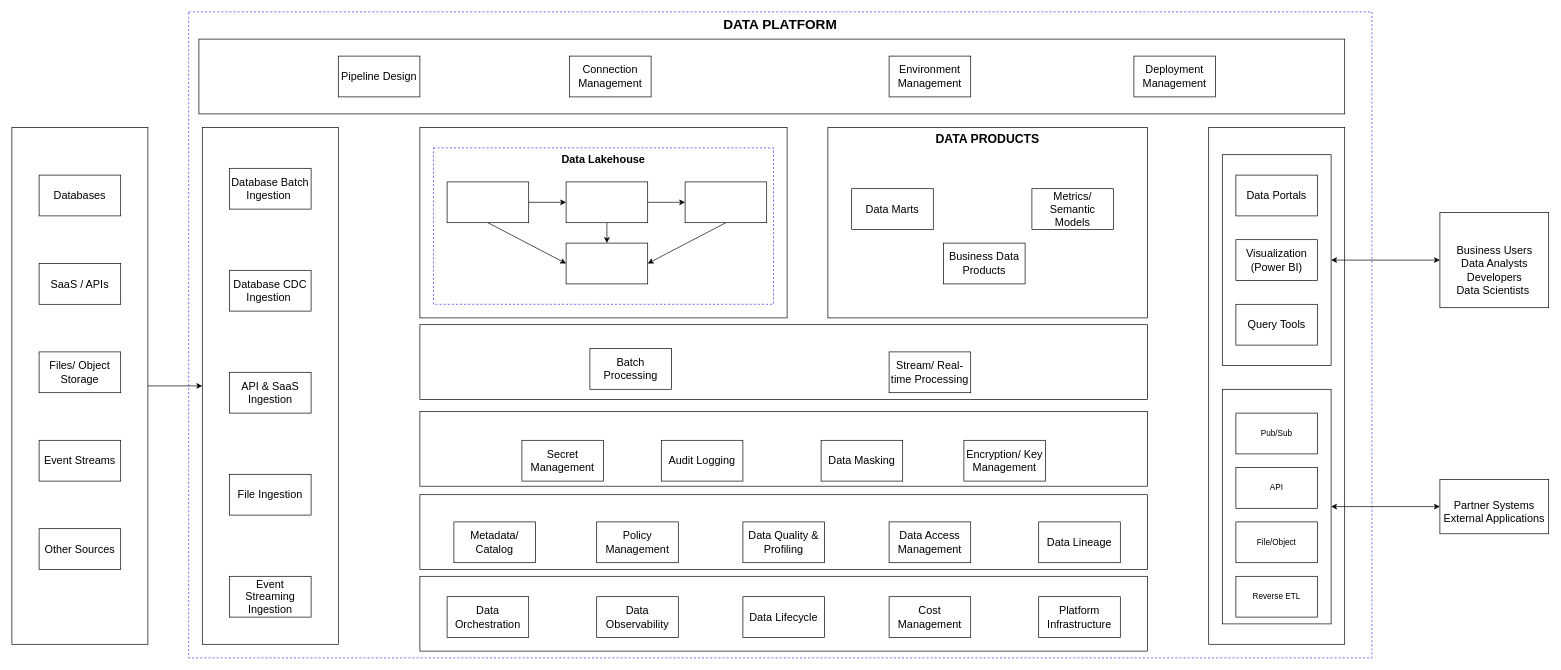
Image size: 1561x670. Some labels were removed from this diagram. The box of each missing label's shape, as (x1, y1, x2, y2) in pixels:
Archive Zone: (565, 242, 648, 284)
Curated Zone: (684, 181, 767, 223)
DATA CHANNELS: (1222, 154, 1331, 366)
DATA COMPUTE: (419, 324, 1148, 400)
DATA CONSUMERS: (1439, 212, 1549, 308)
DATA DELIVERY: (1208, 127, 1345, 644)
DATA EXCHANGE: (1222, 389, 1331, 624)
DATA GOVERNANCE: (419, 494, 1148, 570)
DATA INTEGRATION: (202, 127, 338, 644)
DATA OPERATIONS: (419, 576, 1148, 651)
DATA REPOSITORIES: (419, 127, 787, 318)
DATA SECURITY: (419, 411, 1148, 486)
DATA SOURCES: (11, 127, 148, 644)
EXTERNAL SYSTEMS: (1439, 479, 1549, 534)
PIPELINE MANAGEMENT: (198, 38, 1345, 114)
Raw Zone: (446, 181, 529, 223)
Staging Zone: (565, 181, 648, 223)
